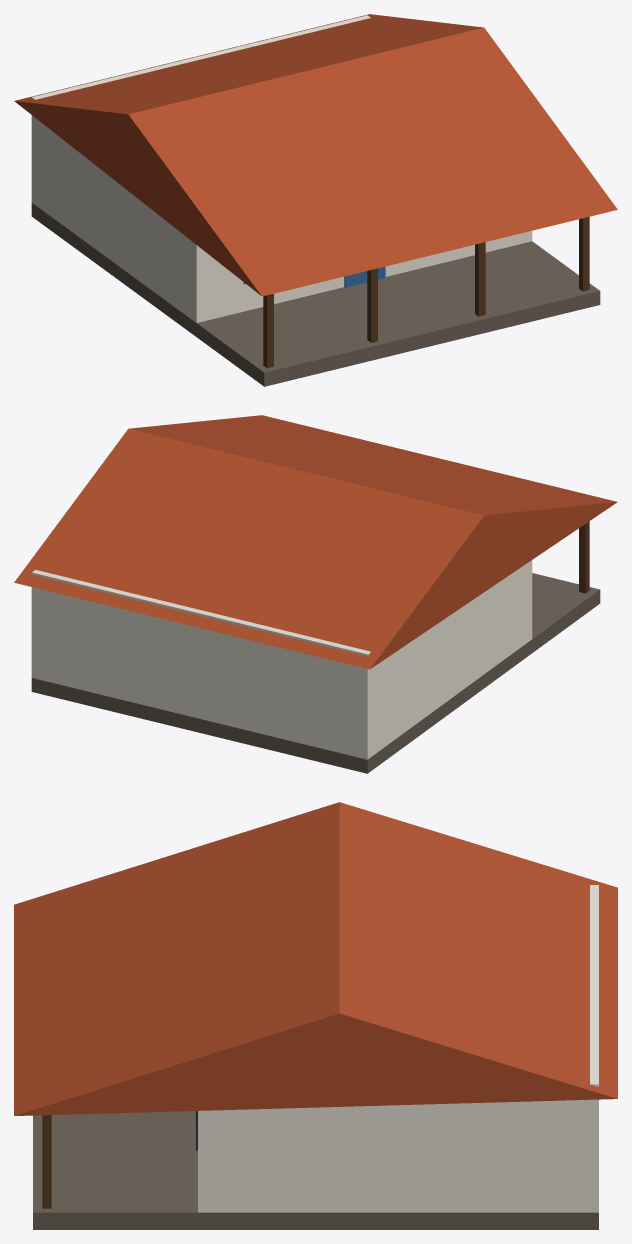
File: bld_cs_farmhouse.glb
3 views of the same model, one above another, from view 1: azimuth 30°, elevation 25°; view 2: azimuth 150°, elevation 25°; view 3: azimuth 270°, elevation 25° (orthographic). The views are drawn at different scales.
Visible parts, largest first — view 1: bld_cs_farmhouse; view 2: bld_cs_farmhouse; view 3: bld_cs_farmhouse.
Boxes of the visible parts, left/top/right/bottom form: bld_cs_farmhouse: left=14, top=14, right=617, bottom=386; bld_cs_farmhouse: left=14, top=415, right=617, bottom=773; bld_cs_farmhouse: left=14, top=802, right=617, bottom=1229.
Size of what is drawn, in the model's own units: 10.6 by 5.2 by 12.8.
